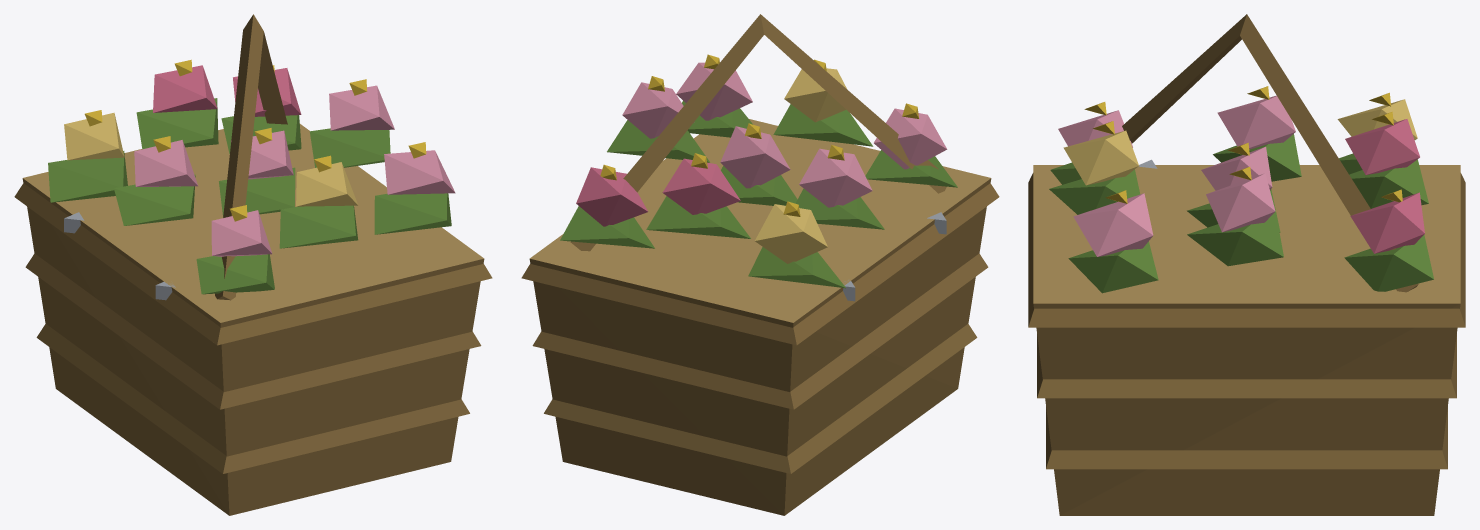
The model's file is gd_bicycle_basket.glb.
3 renders of one model, left to right at view 1: azimuth 30°, elevation 25°; view 2: azimuth 150°, elevation 25°; view 3: azimuth 270°, elevation 25°, orthographic. The views are drawn at different scales.
Visible parts, largest first — view 1: base; view 2: base; view 3: base.
Boxes of the visible parts, left/top/right/bottom form: base: left=14, top=14, right=492, bottom=515; base: left=521, top=14, right=999, bottom=515; base: left=1028, top=14, right=1465, bottom=515.
Size of the model in its own units: 0.107 by 0.149 by 0.1332.
